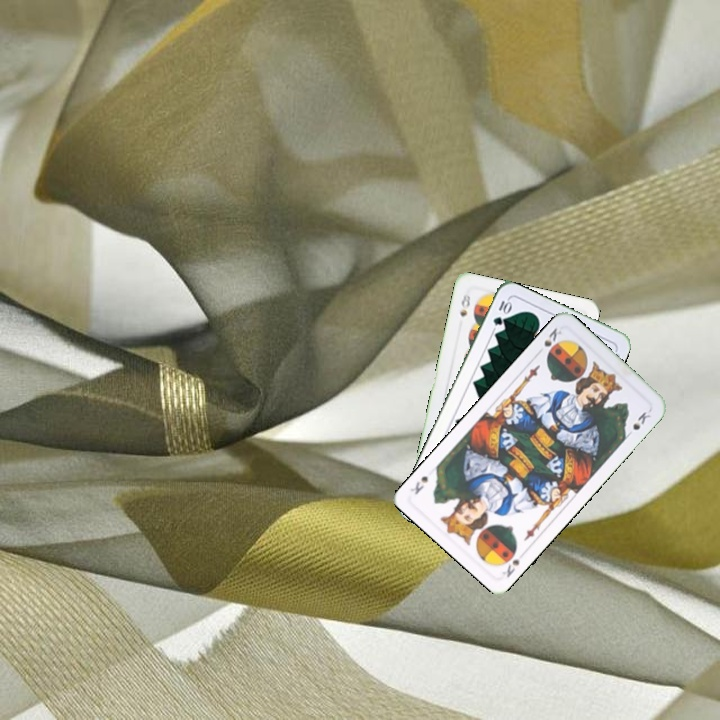G10: (489, 295, 514, 328)
S8: (456, 289, 473, 319)
SK: (498, 546, 528, 580), (540, 323, 564, 349)
